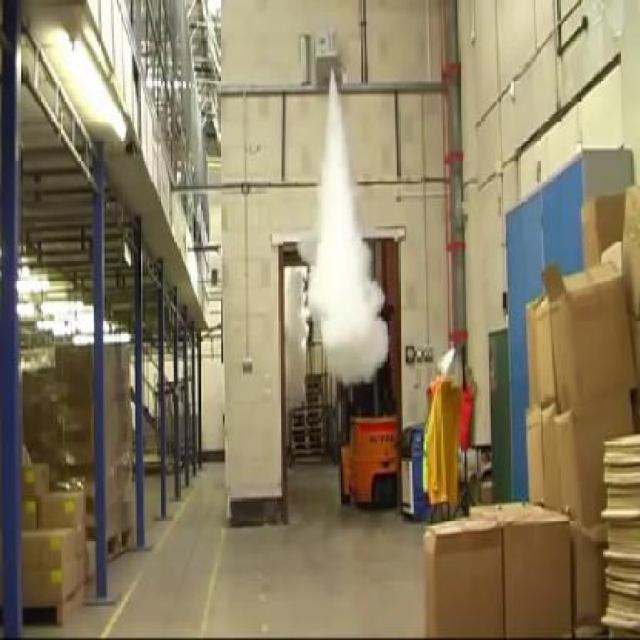fire: (308, 114, 392, 391)
